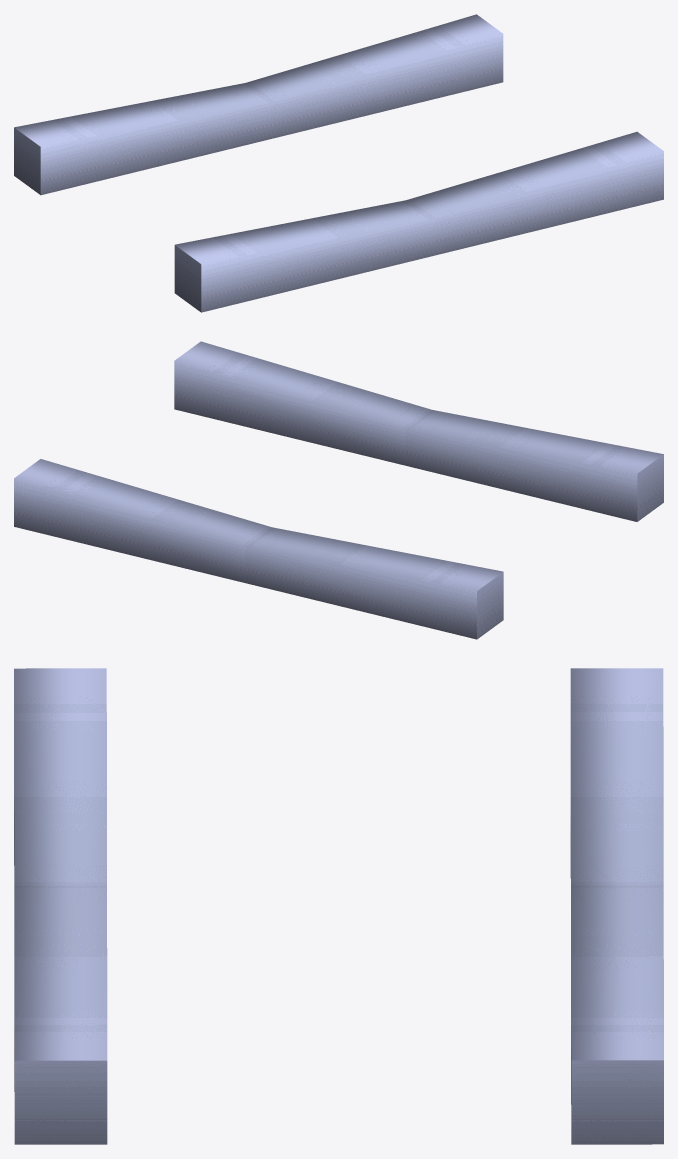
Rendered from spline-track-damaged.025_lev2.glb.
3 renders of one model, top to bottom at view 1: azimuth 30°, elevation 25°; view 2: azimuth 150°, elevation 25°; view 3: azimuth 270°, elevation 25°, orthographic. The views are drawn at different scales.
Parts seen in each view (by area): view 1: spline-track-damaged.025_lev2; view 2: spline-track-damaged.025_lev2; view 3: spline-track-damaged.025_lev2.
Boxes of the visible parts, left/top/right/bottom form: spline-track-damaged.025_lev2: left=14, top=14, right=663, bottom=312; spline-track-damaged.025_lev2: left=14, top=341, right=663, bottom=639; spline-track-damaged.025_lev2: left=14, top=668, right=663, bottom=1144.
Size of the model in its own units: 3.34 by 0.3336 by 2.34.
1 material, 1 textured.
